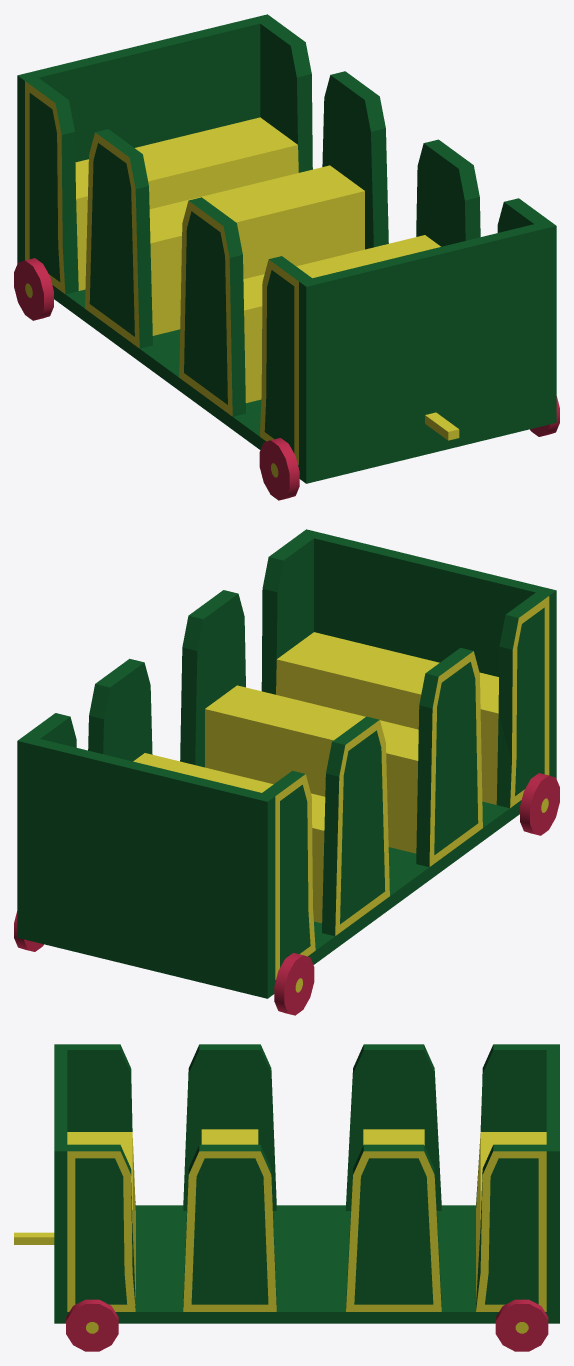
File: Wagon01.fbx
3 renders of one model, top to bottom at view 1: azimuth 30°, elevation 25°; view 2: azimuth 150°, elevation 25°; view 3: azimuth 270°, elevation 25°, orthographic. The views are drawn at different scales.
Parts seen in each view (by area): view 1: Wagon01; view 2: Wagon01; view 3: Wagon01.
Boxes of the visible parts, x1,y1,x2,y2 form: Wagon01: (14, 14, 559, 500); Wagon01: (14, 529, 559, 1015); Wagon01: (14, 1044, 559, 1351).
Bounding box in the file's own units: 108 × 85.62 × 216.
